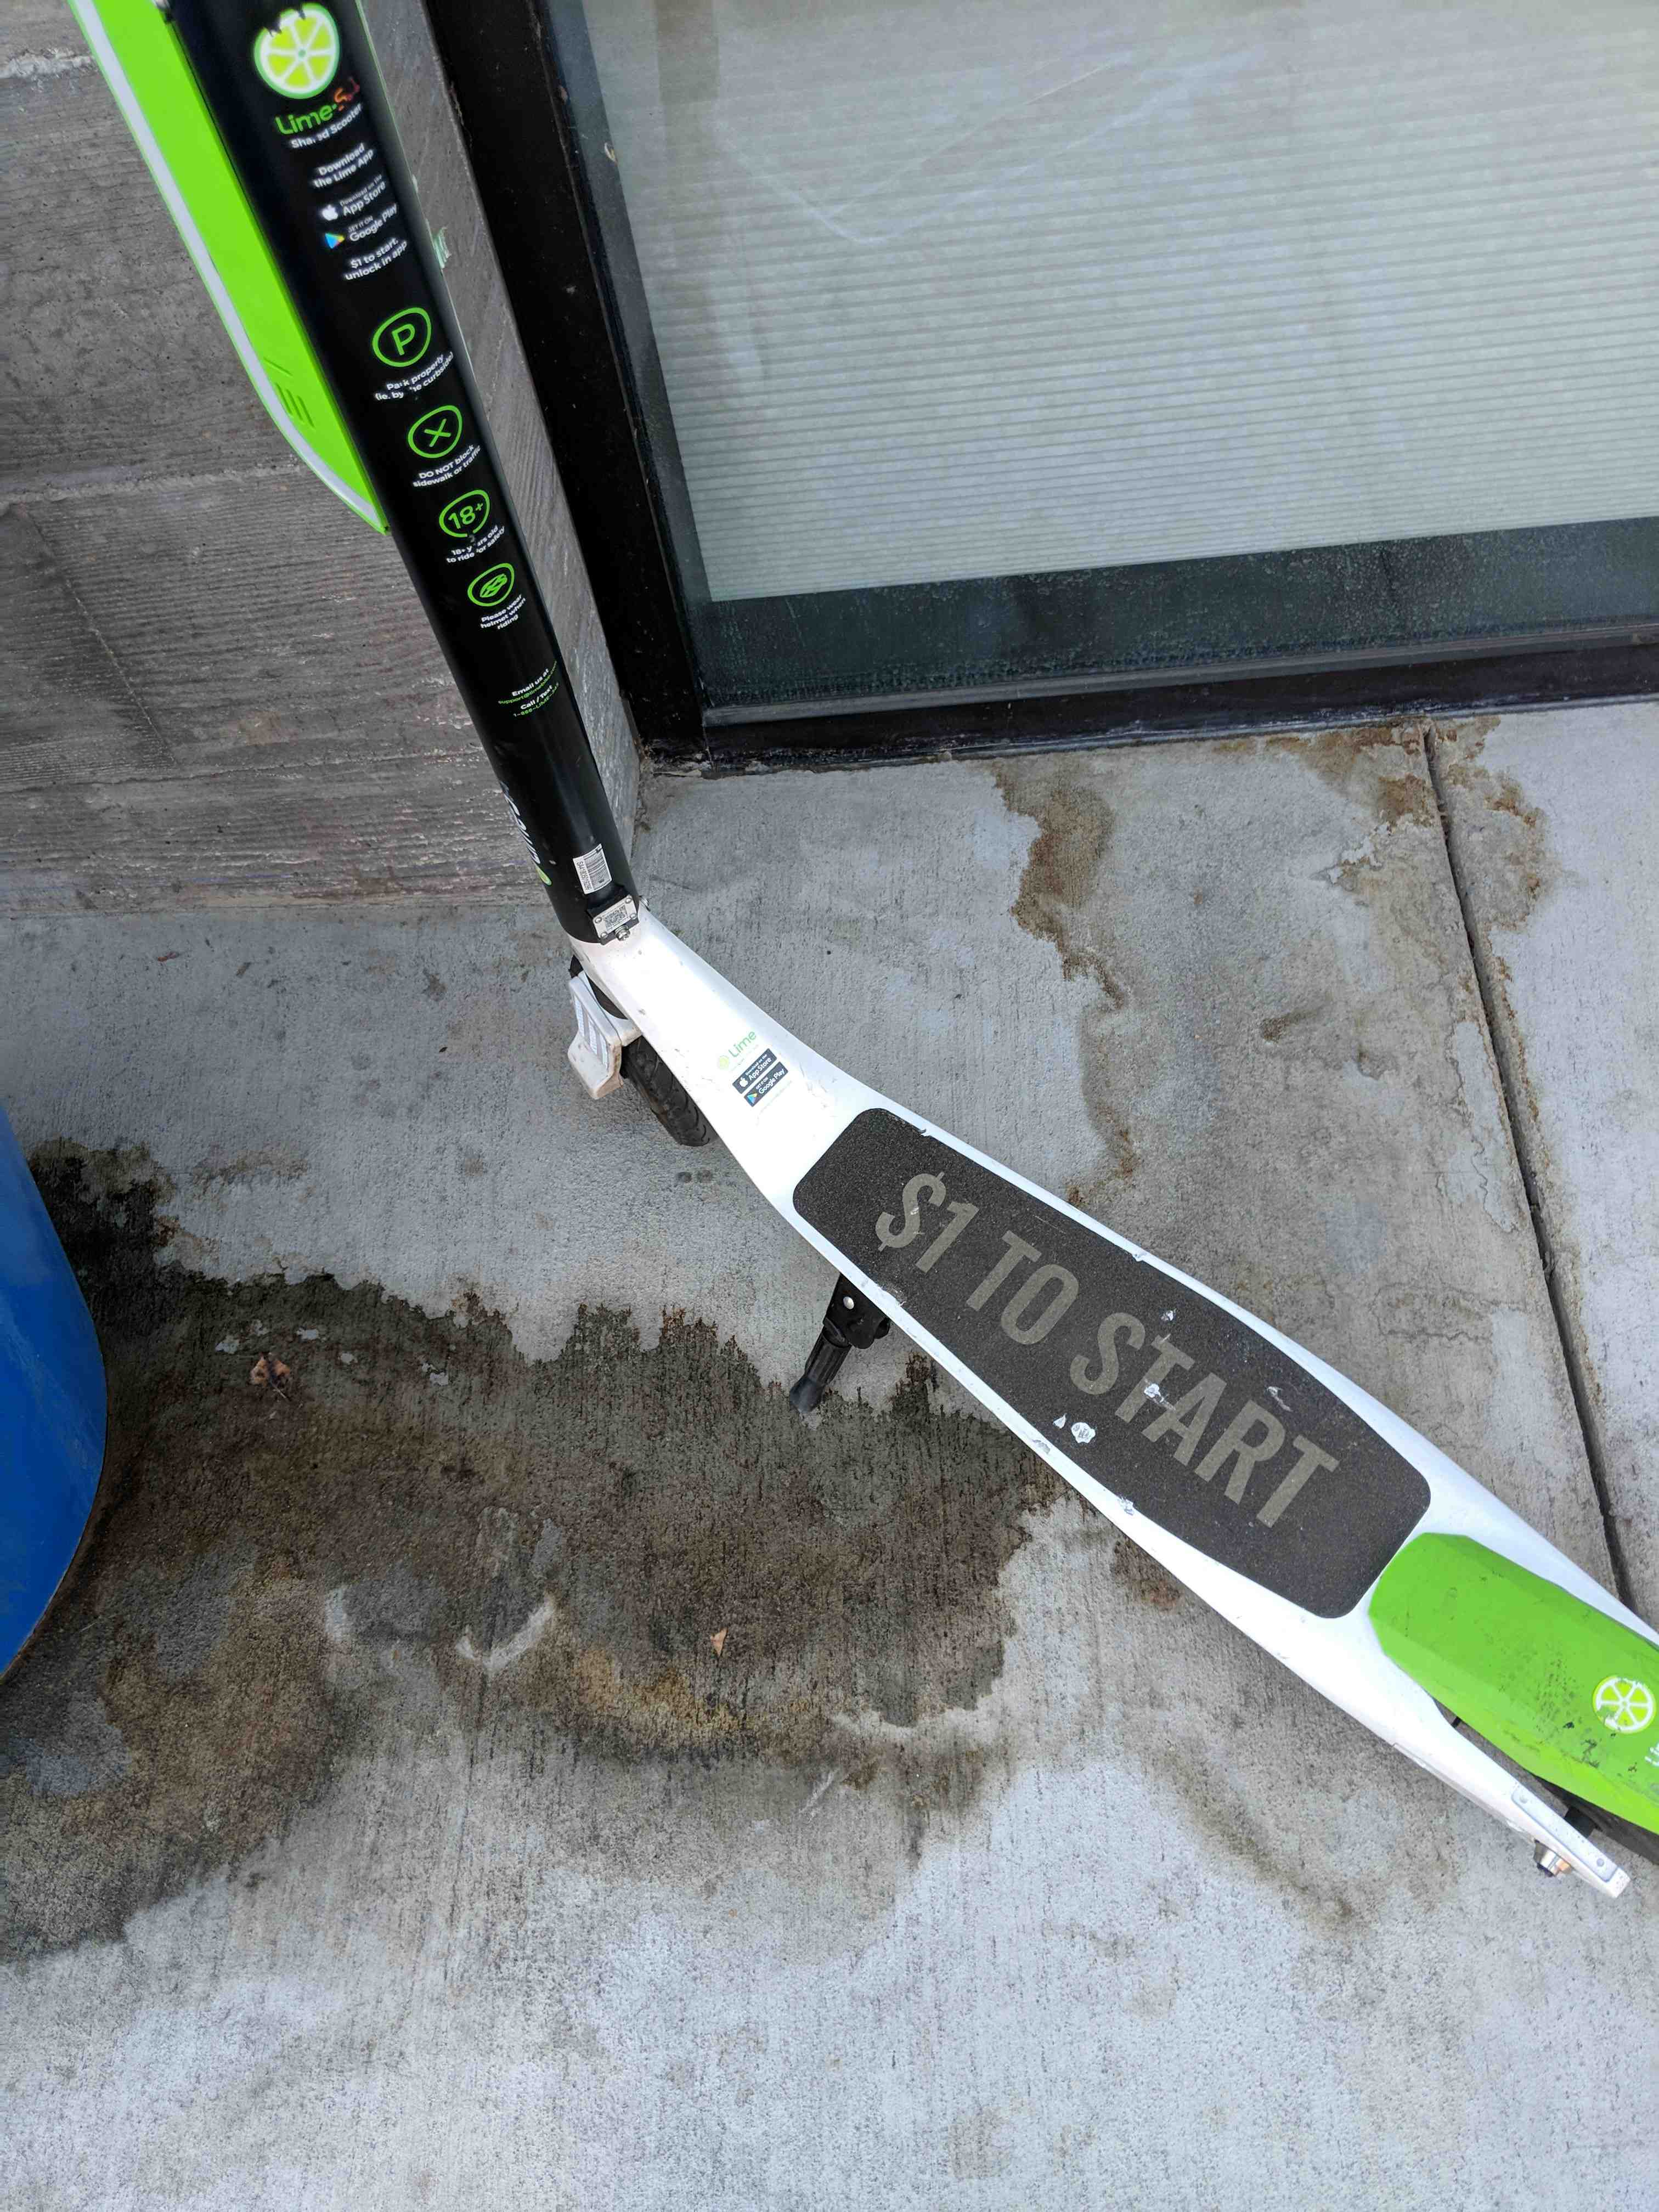scooter: (26, 57, 1629, 2099)
